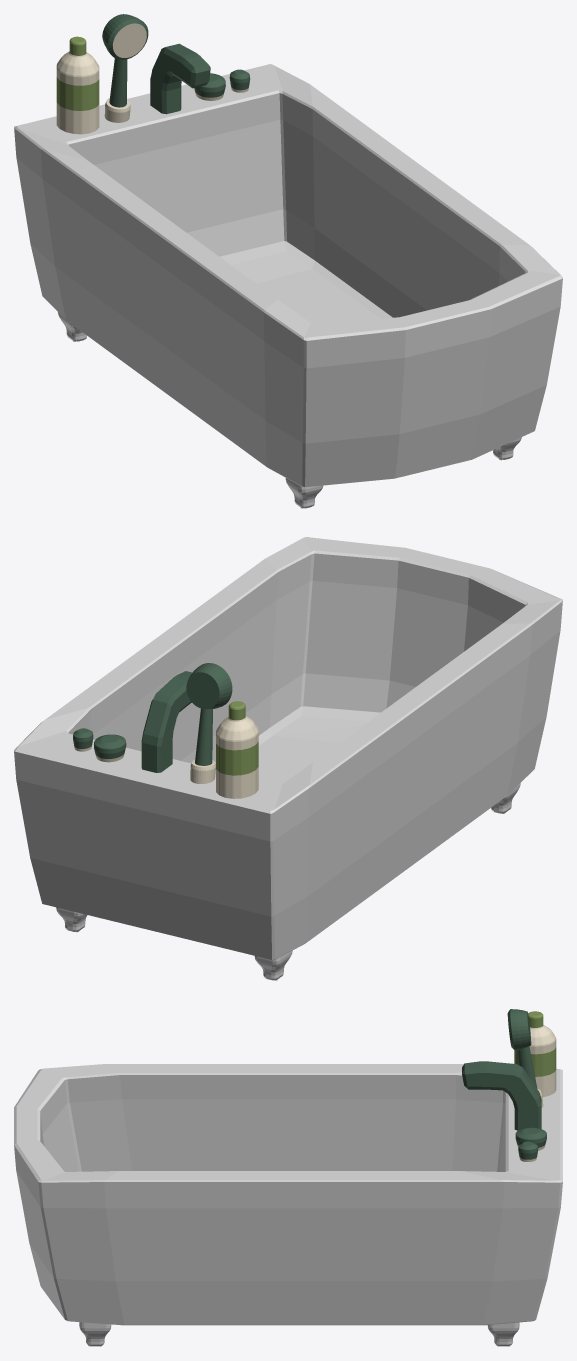
The model's file is Bathroom_Tub.fbx.
3 renders of one model, top to bottom at view 1: azimuth 30°, elevation 25°; view 2: azimuth 150°, elevation 25°; view 3: azimuth 270°, elevation 25°, orthographic. The views are drawn at different scales.
Visible parts, largest first — view 1: Bathroom_Tub, Bathroom_Tub.004, Bathroom_Tub.001, Bathroom_Tub.003, Bathroom_Tub.002; view 2: Bathroom_Tub, Bathroom_Tub.004, Bathroom_Tub.001, Bathroom_Tub.002, Bathroom_Tub.003; view 3: Bathroom_Tub, Bathroom_Tub.004, Bathroom_Tub.001, Bathroom_Tub.002.
Boxes of the visible parts, box(x1,y1,x2,y2) form: Bathroom_Tub: box(14, 64, 562, 508); Bathroom_Tub.004: box(102, 14, 250, 114); Bathroom_Tub.001: box(56, 51, 99, 134); Bathroom_Tub.003: box(104, 23, 248, 122); Bathroom_Tub.002: box(56, 36, 99, 110); Bathroom_Tub: box(14, 537, 562, 980); Bathroom_Tub.004: box(73, 663, 232, 772); Bathroom_Tub.001: box(216, 716, 258, 798); Bathroom_Tub.002: box(216, 701, 258, 775); Bathroom_Tub.003: box(74, 746, 215, 783); Bathroom_Tub: box(14, 1064, 562, 1346); Bathroom_Tub.004: box(462, 1009, 546, 1159); Bathroom_Tub.001: box(517, 1025, 556, 1097); Bathroom_Tub.002: box(514, 1011, 556, 1076).
Bounding box in the file's own units: 110 × 119 × 218.
